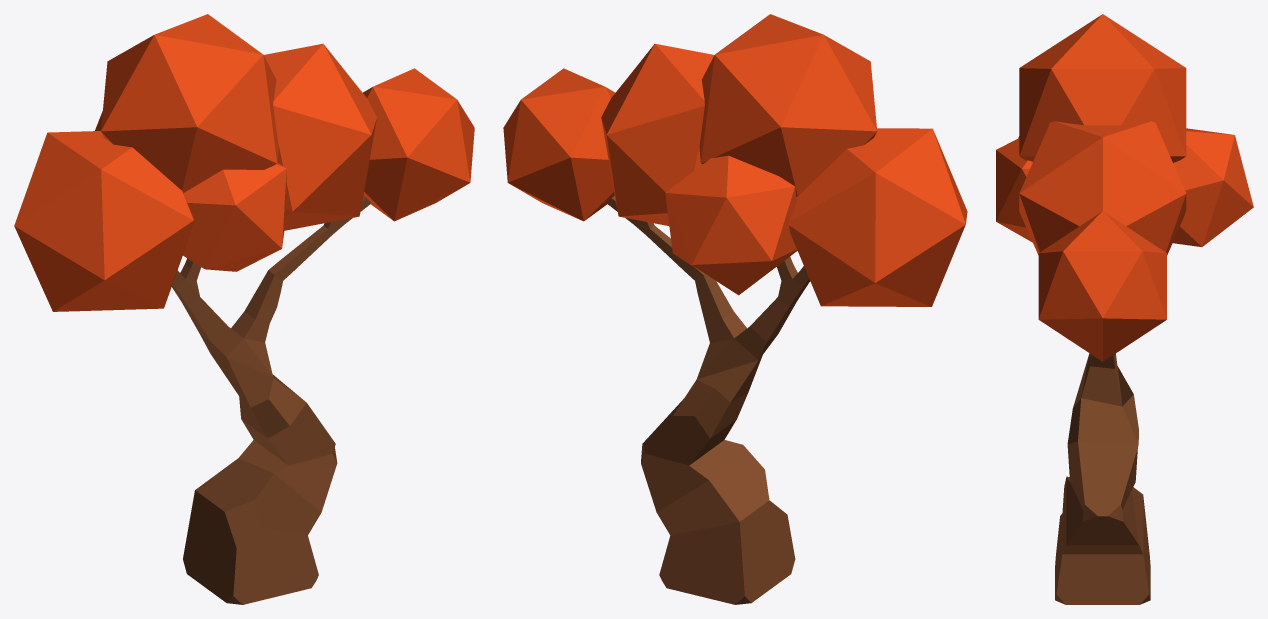
The model's file is alt_tree.glb.
The picture shows the model from 3 angles, left to right: view 1: azimuth 30°, elevation 25°; view 2: azimuth 150°, elevation 25°; view 3: azimuth 270°, elevation 25°; orthographic projection. The views are drawn at different scales.
Parts seen in each view (by area): view 1: alt-tree; view 2: alt-tree; view 3: alt-tree.
Boxes of the visible parts, <box> form: alt-tree: <box>14,14,474,604</box>; alt-tree: <box>503,14,967,604</box>; alt-tree: <box>996,14,1253,604</box>.
Bounding box in the file's own units: 18.22 × 21.38 × 9.48.
